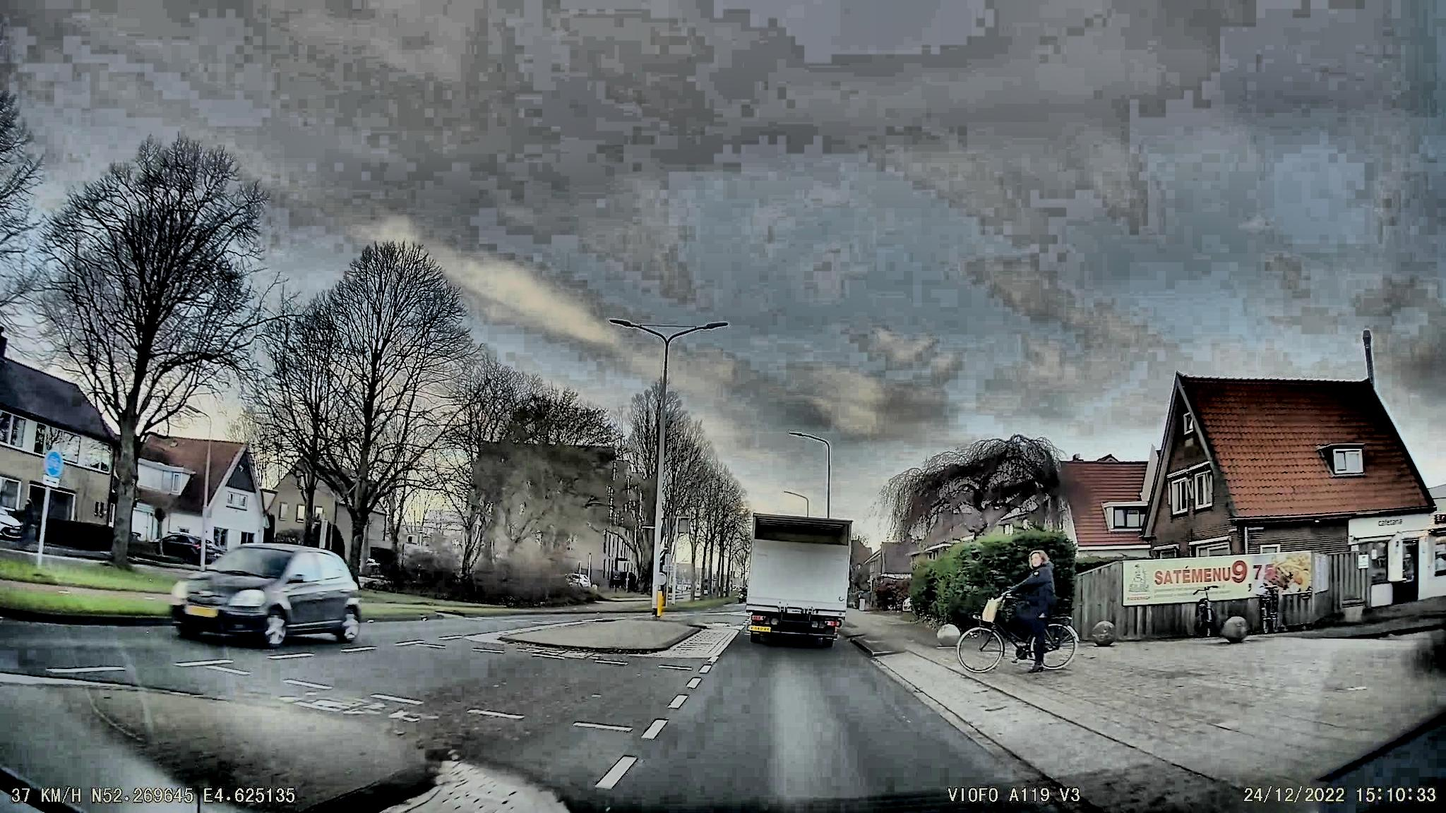Roads: (0, 620, 1092, 813)
